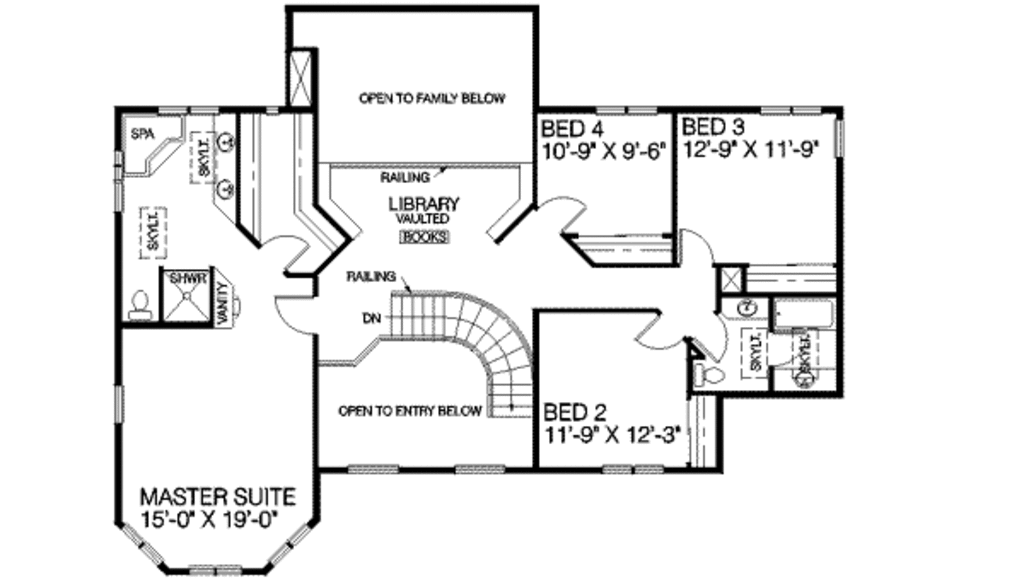door: (530, 174, 589, 234), (628, 307, 684, 356), (255, 226, 311, 274), (667, 216, 717, 267), (691, 307, 732, 363), (274, 290, 318, 338)
large_sink: (124, 285, 157, 320), (694, 362, 731, 391)
small_sink: (214, 114, 242, 214), (721, 297, 766, 319)
stairs: (384, 282, 529, 425)
window: (262, 511, 315, 577), (112, 514, 166, 568), (107, 148, 128, 217), (601, 456, 667, 476), (753, 103, 822, 121), (109, 376, 134, 425), (179, 561, 249, 577), (828, 112, 851, 159), (445, 461, 506, 477), (338, 461, 401, 475), (595, 103, 659, 116)
